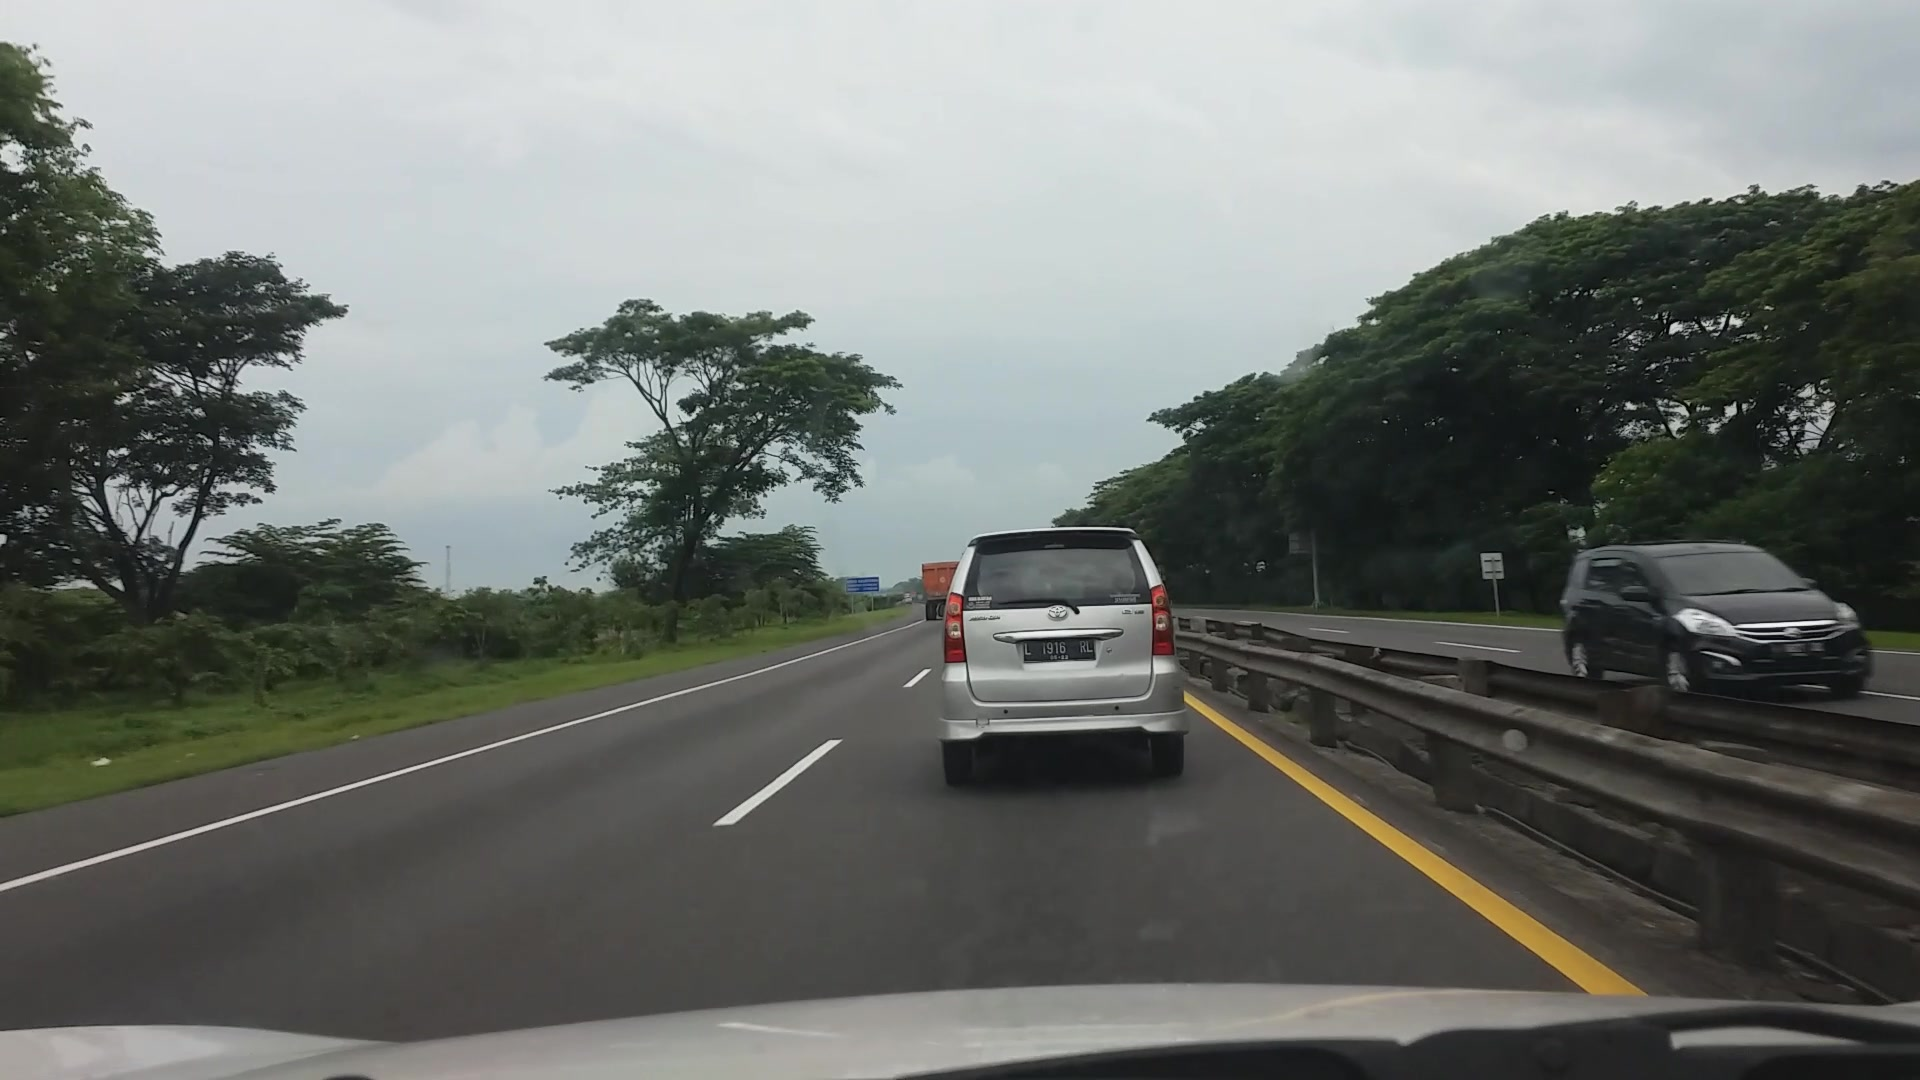plate_positive: (1025, 638, 1095, 662)
